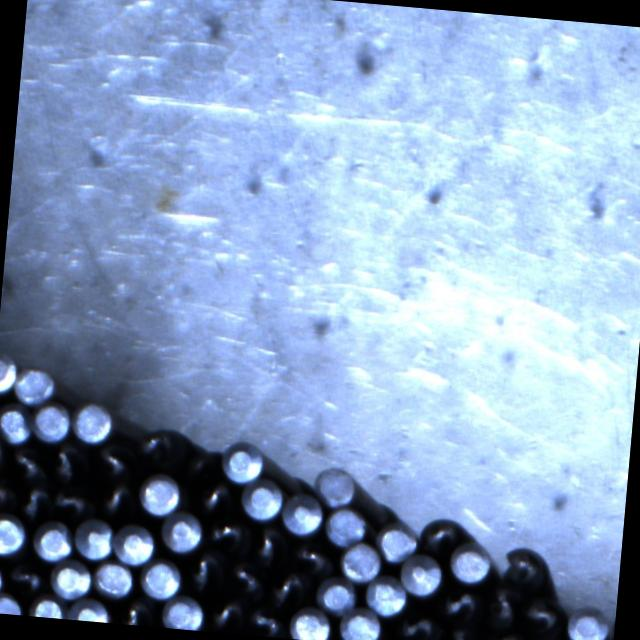tool: (218, 437, 266, 482), (280, 492, 326, 538), (240, 475, 286, 520), (111, 520, 156, 565), (49, 558, 95, 602), (137, 472, 183, 516), (30, 518, 76, 562), (374, 518, 420, 562), (400, 552, 445, 596), (70, 402, 116, 445), (138, 556, 182, 600), (314, 464, 358, 508), (160, 508, 204, 552), (324, 505, 369, 548), (339, 540, 383, 583), (449, 542, 494, 584), (366, 574, 410, 616), (72, 516, 114, 560), (314, 573, 359, 614), (32, 401, 73, 444), (12, 366, 56, 406), (90, 558, 134, 598), (160, 592, 206, 630), (565, 604, 612, 640), (336, 604, 382, 640), (288, 605, 333, 640), (0, 399, 33, 444), (0, 510, 29, 555), (67, 594, 112, 623), (27, 591, 68, 619), (0, 355, 17, 394), (0, 591, 24, 615), (0, 430, 4, 472)
tool_b: (495, 540, 549, 590), (136, 423, 188, 470), (518, 592, 564, 638), (288, 536, 336, 578), (46, 441, 90, 486), (184, 546, 227, 592), (266, 567, 312, 610), (223, 554, 266, 600), (2, 442, 48, 484), (203, 512, 250, 552), (246, 524, 288, 568), (90, 440, 136, 480), (418, 514, 464, 554), (484, 585, 524, 630), (95, 478, 136, 520), (48, 482, 93, 520), (206, 594, 248, 634), (436, 585, 480, 623), (192, 478, 235, 516), (4, 558, 46, 594), (17, 480, 54, 519), (245, 603, 286, 638), (114, 594, 156, 626), (394, 611, 440, 640), (441, 623, 481, 640), (481, 627, 526, 640), (0, 474, 15, 512)
